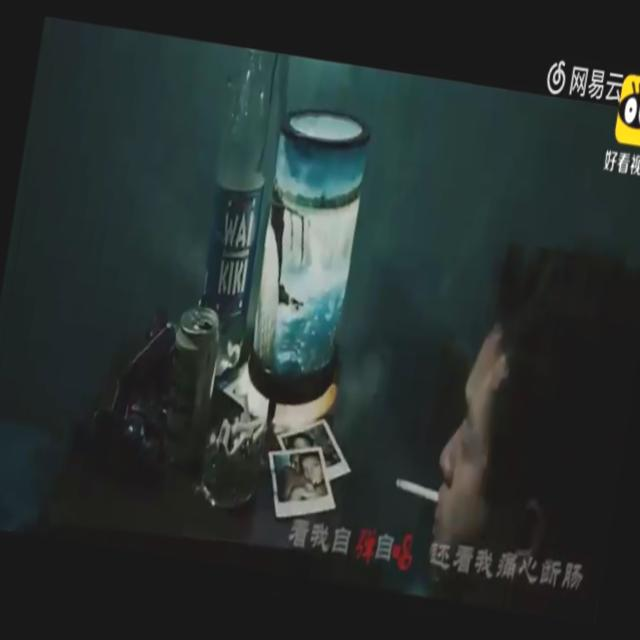cigarette: (392, 472, 444, 512)
